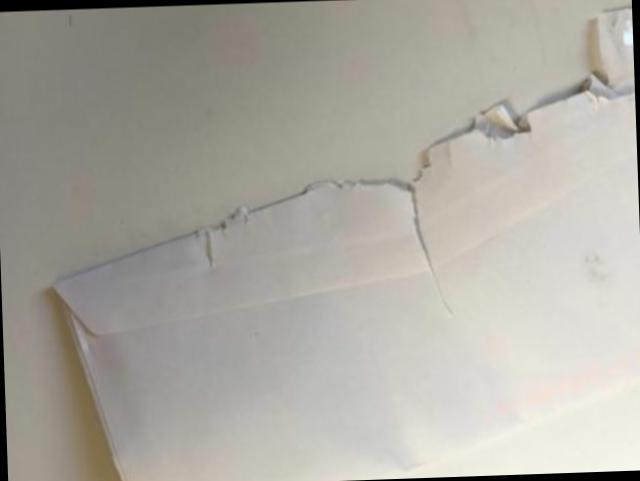cardboard paper: (55, 9, 640, 481)
